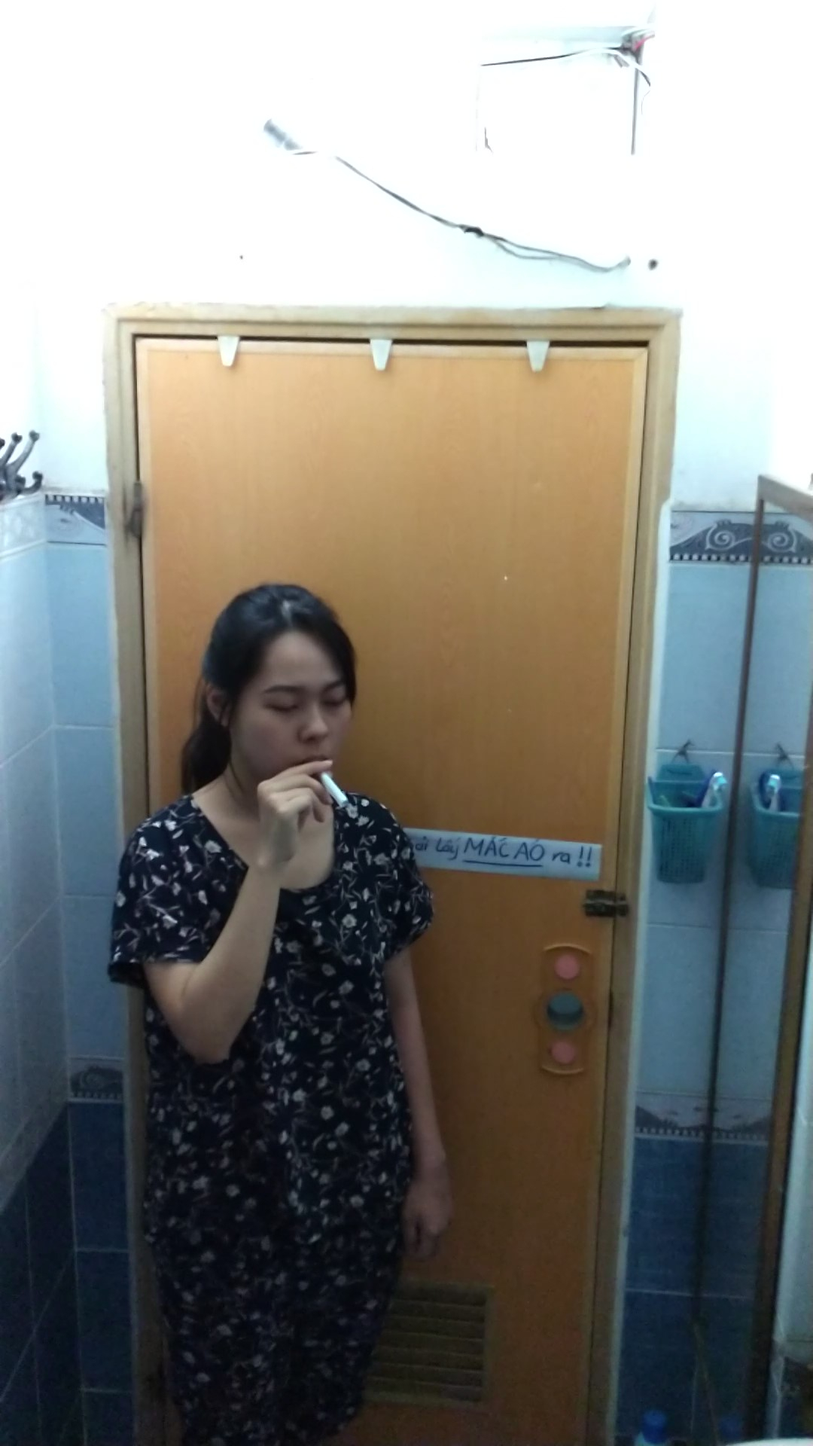cigarette: (319, 773, 351, 810)
person: (107, 576, 458, 1441)
